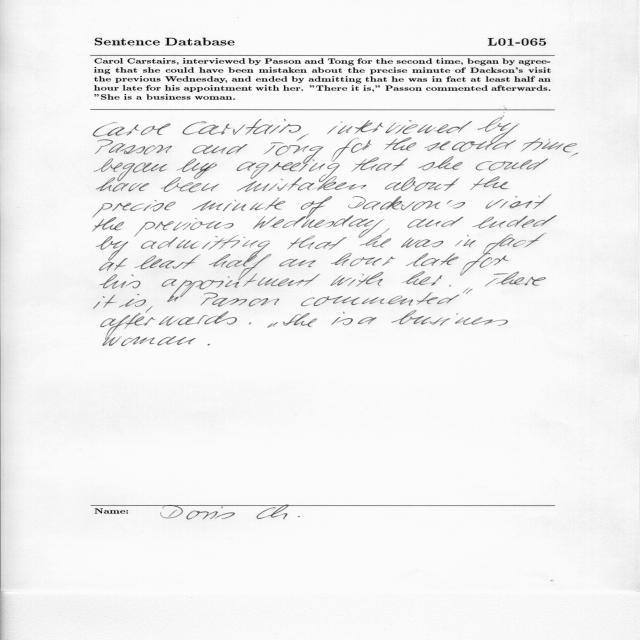word: (101, 311, 237, 346), (162, 273, 321, 302), (462, 233, 547, 271), (253, 215, 384, 238), (236, 160, 340, 183), (237, 176, 367, 192), (301, 293, 460, 306), (327, 120, 472, 134), (141, 235, 270, 250), (183, 119, 301, 135), (391, 310, 508, 326), (209, 251, 271, 281), (134, 218, 234, 236), (348, 196, 465, 211), (94, 159, 167, 182), (93, 200, 176, 218), (425, 137, 517, 152), (263, 142, 324, 164), (193, 198, 286, 211), (472, 215, 557, 229), (93, 122, 171, 137), (95, 140, 172, 155), (201, 293, 280, 307), (385, 177, 460, 191), (135, 255, 201, 270), (486, 194, 551, 209), (484, 272, 546, 287), (332, 138, 372, 161), (287, 235, 347, 250), (478, 116, 520, 137), (161, 177, 219, 192), (476, 159, 548, 171), (176, 158, 217, 179), (351, 157, 408, 172), (521, 138, 577, 153), (331, 253, 395, 266), (97, 236, 129, 261), (97, 177, 150, 192), (331, 272, 384, 287), (122, 336, 196, 346), (301, 196, 332, 219), (406, 253, 459, 266), (418, 157, 463, 171), (408, 217, 464, 228), (100, 274, 141, 289), (402, 272, 443, 286), (193, 144, 248, 154), (470, 177, 508, 190), (360, 232, 392, 247), (283, 313, 317, 327), (384, 137, 417, 151), (401, 237, 443, 248), (93, 217, 124, 231), (479, 255, 509, 268), (100, 258, 128, 271), (94, 295, 116, 309), (279, 259, 316, 267), (331, 312, 353, 325), (449, 272, 466, 287), (455, 235, 476, 247), (119, 299, 146, 307), (358, 317, 377, 325), (297, 133, 309, 141), (463, 287, 473, 294), (267, 322, 278, 328), (146, 306, 153, 313), (571, 153, 578, 157), (385, 228, 390, 232), (249, 323, 252, 325), (208, 344, 210, 346), (137, 294, 140, 295)
